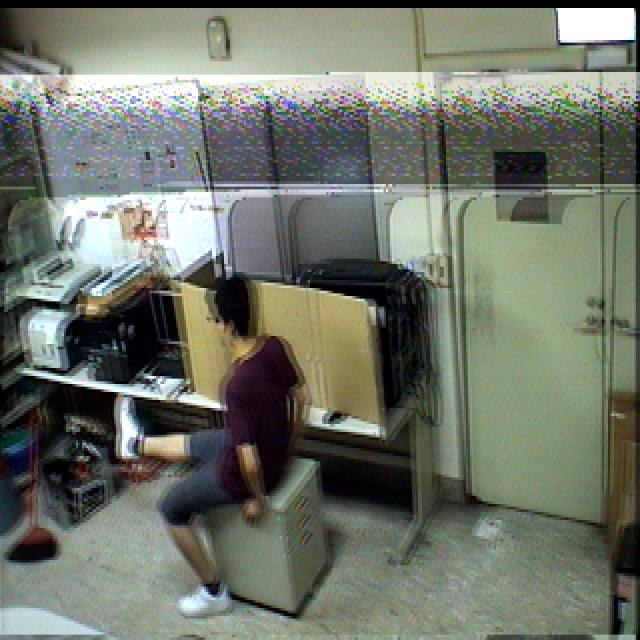sit: (109, 266, 314, 628)
